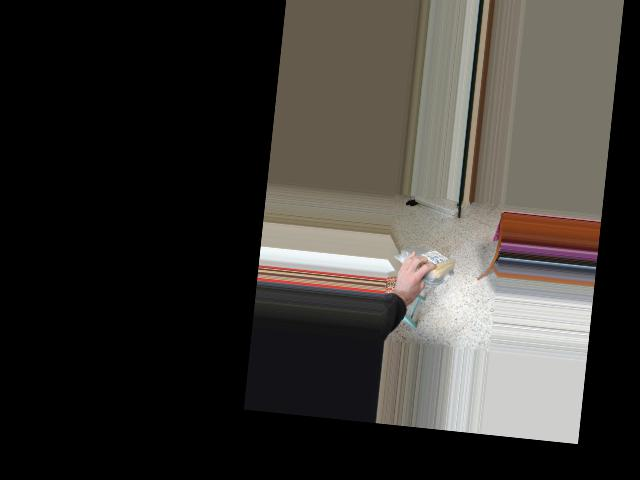cheese: (393, 244, 456, 280)
